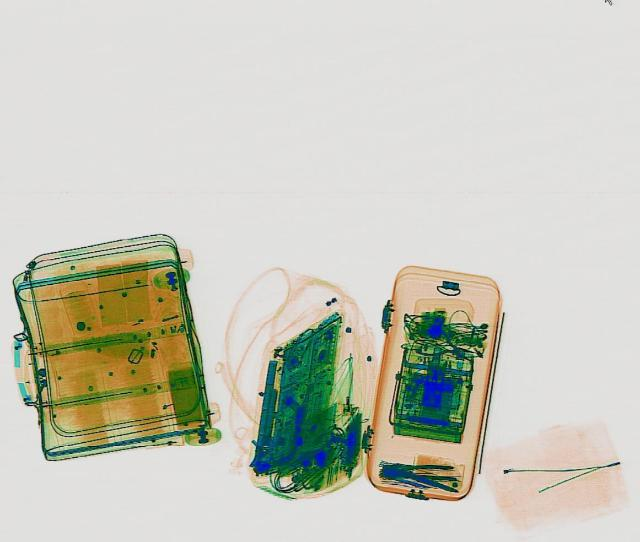Pliers: (412, 321, 482, 370), (382, 458, 460, 481)
